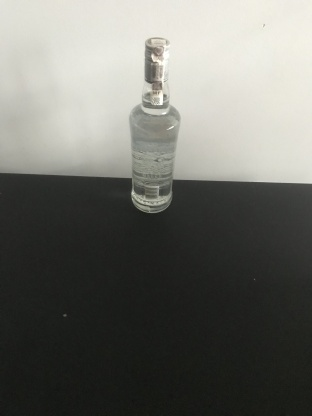nakretka: (142, 34, 171, 83)
